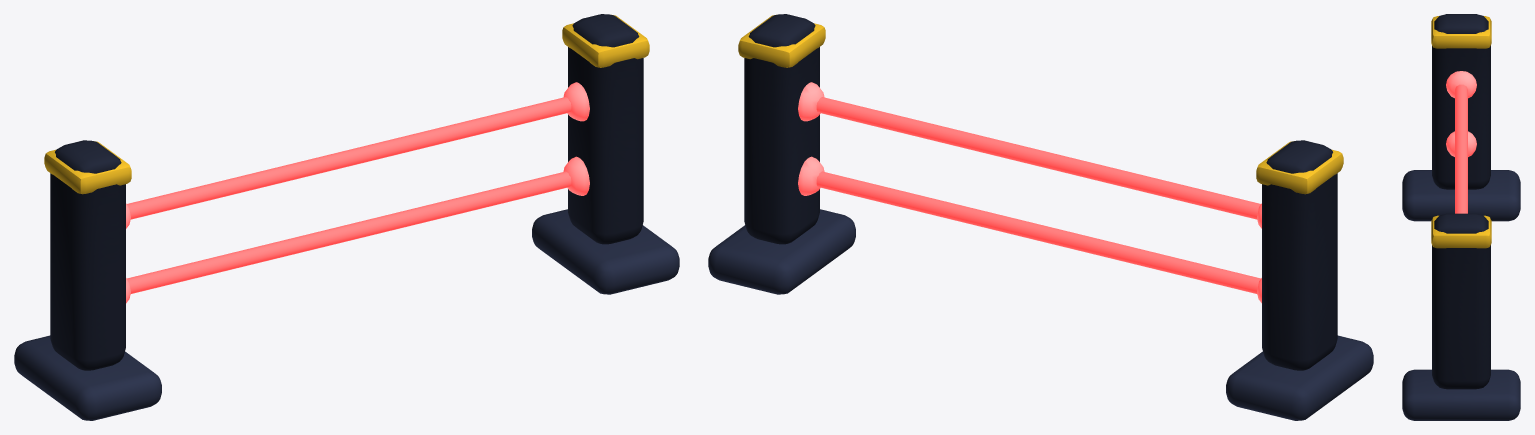
The model's file is bl_hay.glb.
The picture shows the model from 3 angles, left to right: view 1: azimuth 30°, elevation 25°; view 2: azimuth 150°, elevation 25°; view 3: azimuth 270°, elevation 25°; orthographic projection. The views are drawn at different scales.
Parts seen in each view (by area): view 1: laser_fence; view 2: laser_fence; view 3: laser_fence.
Part boxes in pixels (left/top/right/bottom): laser_fence: left=14, top=14, right=679, bottom=420; laser_fence: left=708, top=14, right=1373, bottom=420; laser_fence: left=1402, top=14, right=1520, bottom=420.
Bounding box in the file's own units: 1.86 × 0.71 × 0.4.
